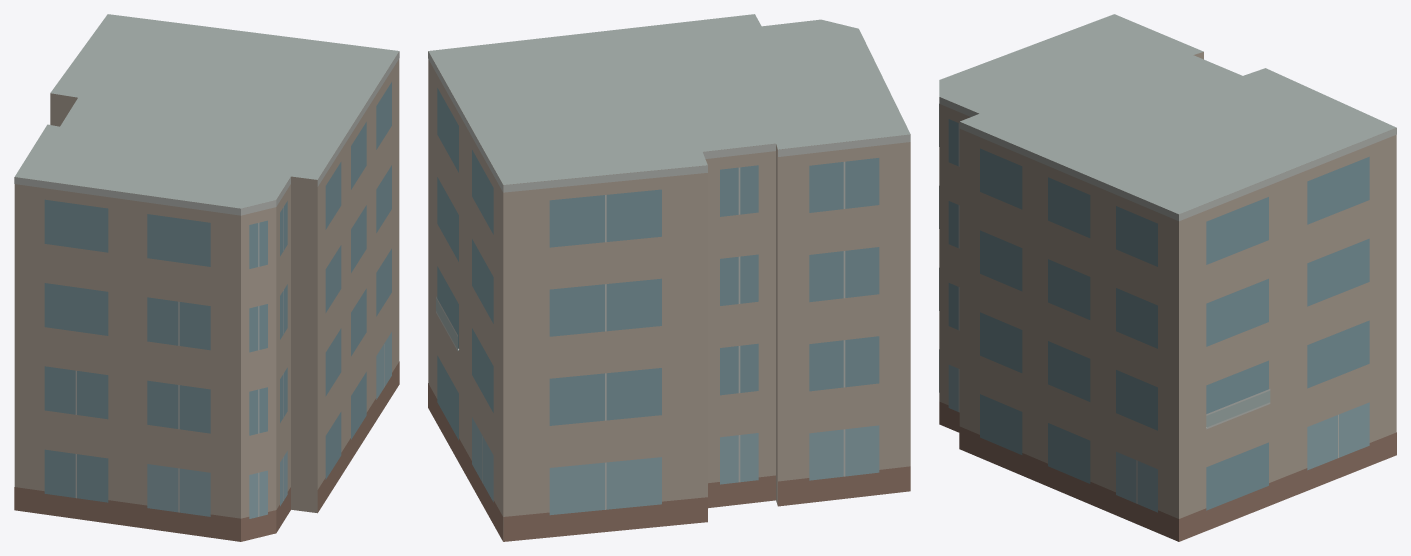
The model's file is survey-upis-32691834.glb.
3 views of the same model, side by side, from view 1: azimuth 30°, elevation 25°; view 2: azimuth 150°, elevation 25°; view 3: azimuth 270°, elevation 25° (orthographic). The views are drawn at different scales.
Visible parts, largest first — view 1: survey-upis-32691834.tmp; view 2: survey-upis-32691834.tmp; view 3: survey-upis-32691834.tmp.
Part boxes in pixels (left/top/right/bottom): survey-upis-32691834.tmp: left=14, top=14, right=399, bottom=541; survey-upis-32691834.tmp: left=428, top=14, right=910, bottom=541; survey-upis-32691834.tmp: left=939, top=14, right=1396, bottom=541.
Size of the model in its own units: 15.1 by 11.5 by 14.57.
